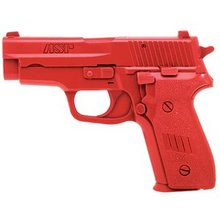Arma Falsa: (2, 28, 220, 193)
